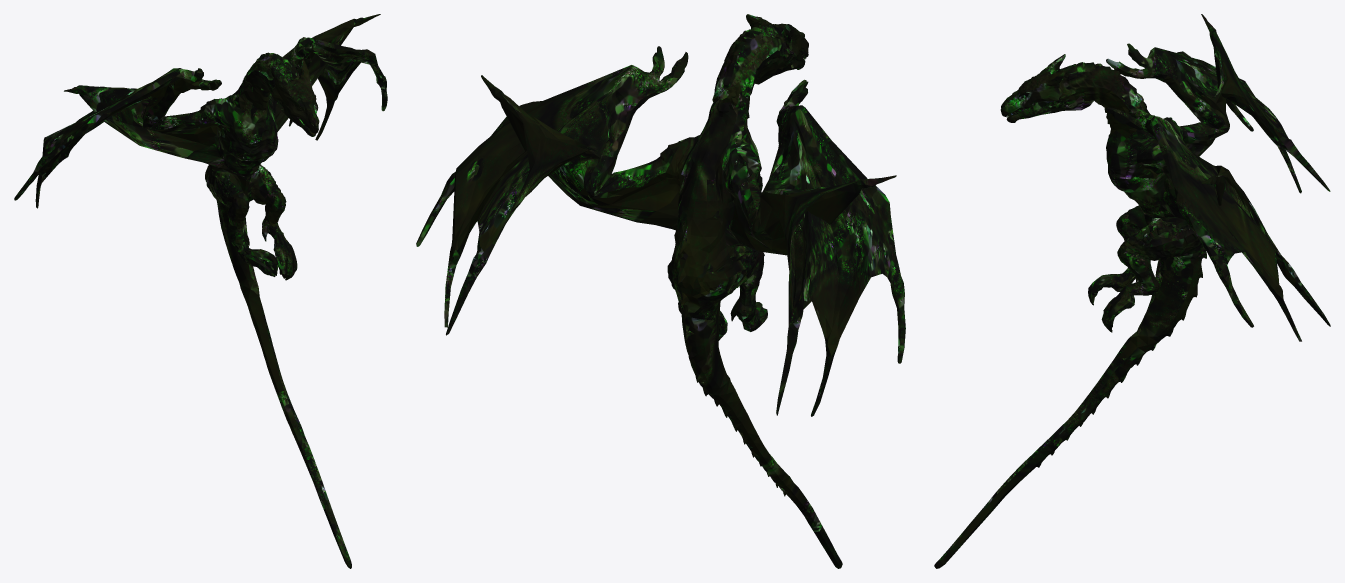
Rendered from frame_0012_uv.obj.
3 views of the same model, side by side, from view 1: azimuth 30°, elevation 25°; view 2: azimuth 150°, elevation 25°; view 3: azimuth 270°, elevation 25° (orthographic). The views are drawn at different scales.
Visible parts, largest first — view 1: pMesh1; view 2: pMesh1; view 3: pMesh1.
Boxes of the visible parts, bbox=[...] form: pMesh1: bbox=[14, 14, 387, 568]; pMesh1: bbox=[416, 14, 905, 568]; pMesh1: bbox=[934, 14, 1330, 568].
Bounding box in the file's own units: 8.27 × 9.88 × 7.03.
